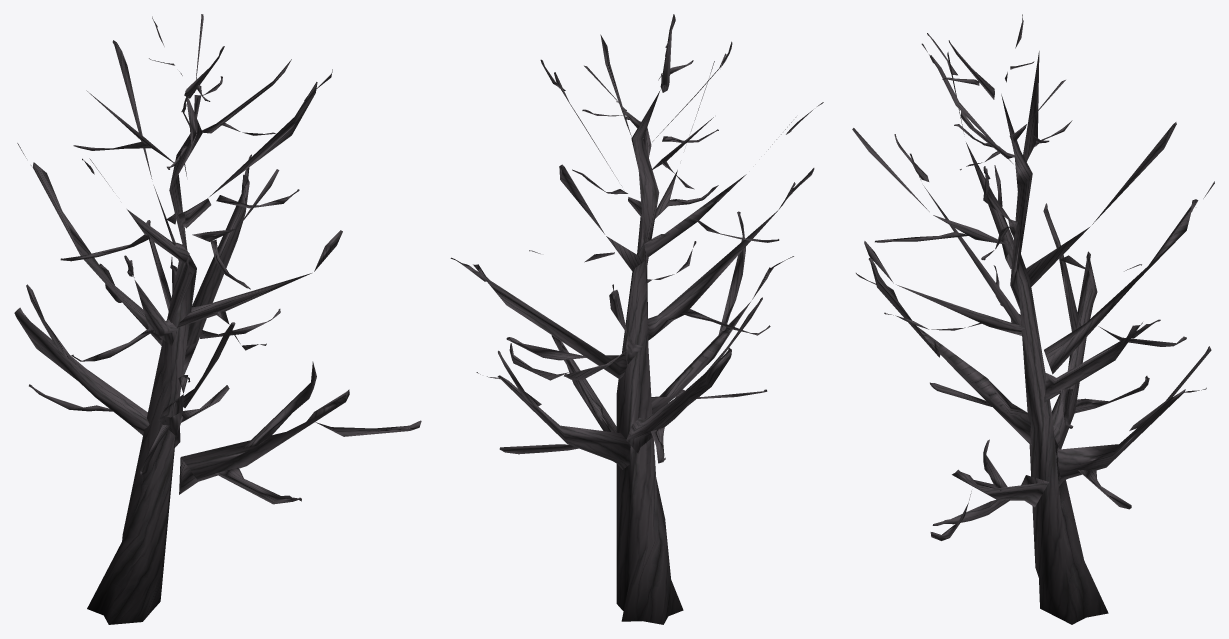
Rendered from DeadTree_2@lod.gltf.
3 views of the same model, side by side, from view 1: azimuth 30°, elevation 25°; view 2: azimuth 150°, elevation 25°; view 3: azimuth 270°, elevation 25° (orthographic). The views are drawn at different scales.
Visible parts, largest first — view 1: DeadTree_2; view 2: DeadTree_2; view 3: DeadTree_2.
Boxes of the visible parts, x1=… form: DeadTree_2: x1=14, y1=14, x2=421, y2=624; DeadTree_2: x1=450, y1=14, x2=823, y2=624; DeadTree_2: x1=852, y1=14, x2=1214, y2=624.
Bounding box in the file's own units: 6.71 × 11.49 × 6.35.
Materials: 1 (1 with a texture image).
